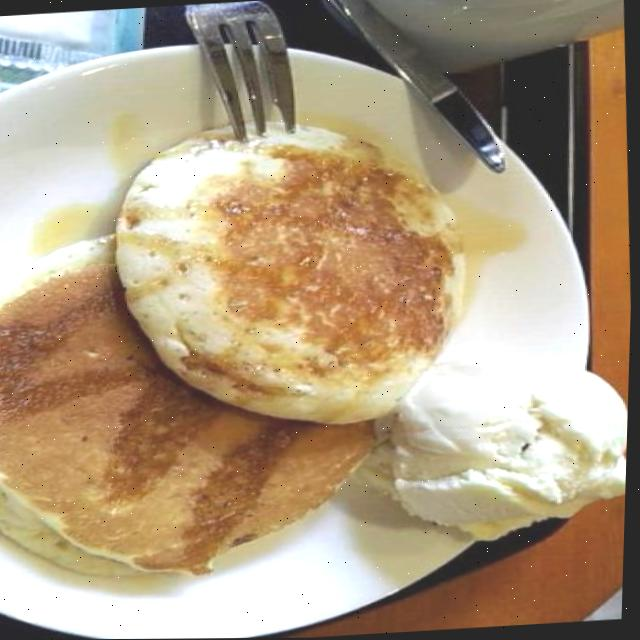蛋糕甜品: (0, 42, 639, 637)
